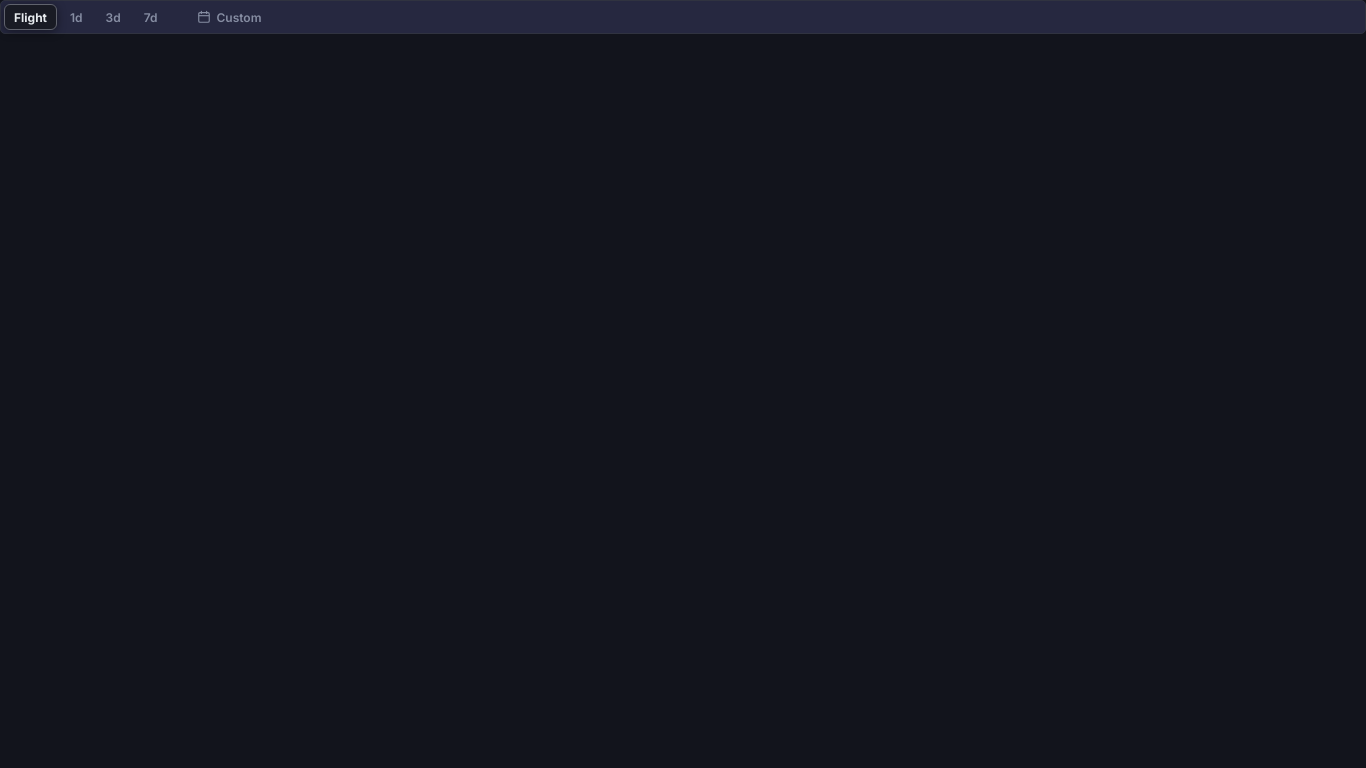
DateRangeControl - the Custom segment IS the calendar trigger › clicking the active Custom segment reopens the calendar
The width and height of the screenshot is (1366, 768).
Step 1. Click the tab with aria-label "Custom date range" → click(230, 17), box [170,4,288,30]
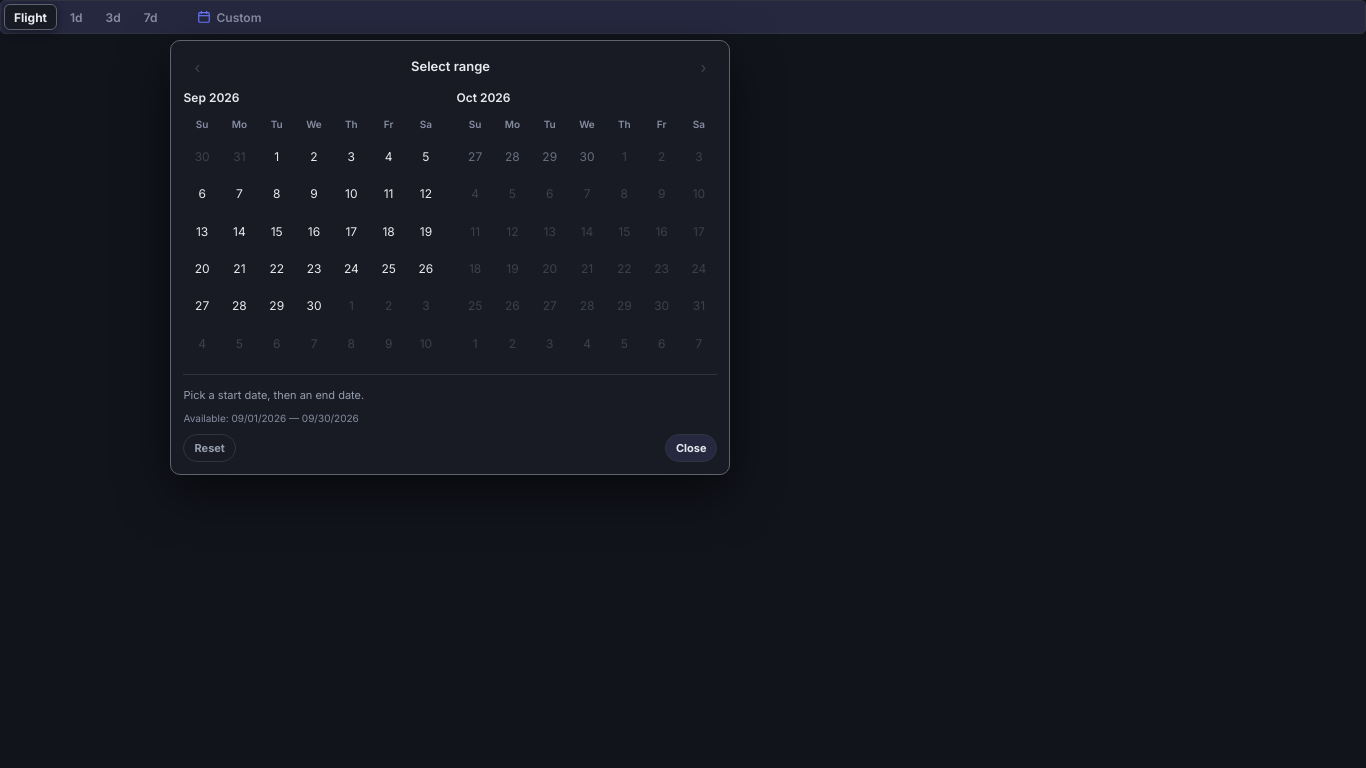
Step 2. Click the 1st button "1" → click(277, 157), box [258,138,295,175]
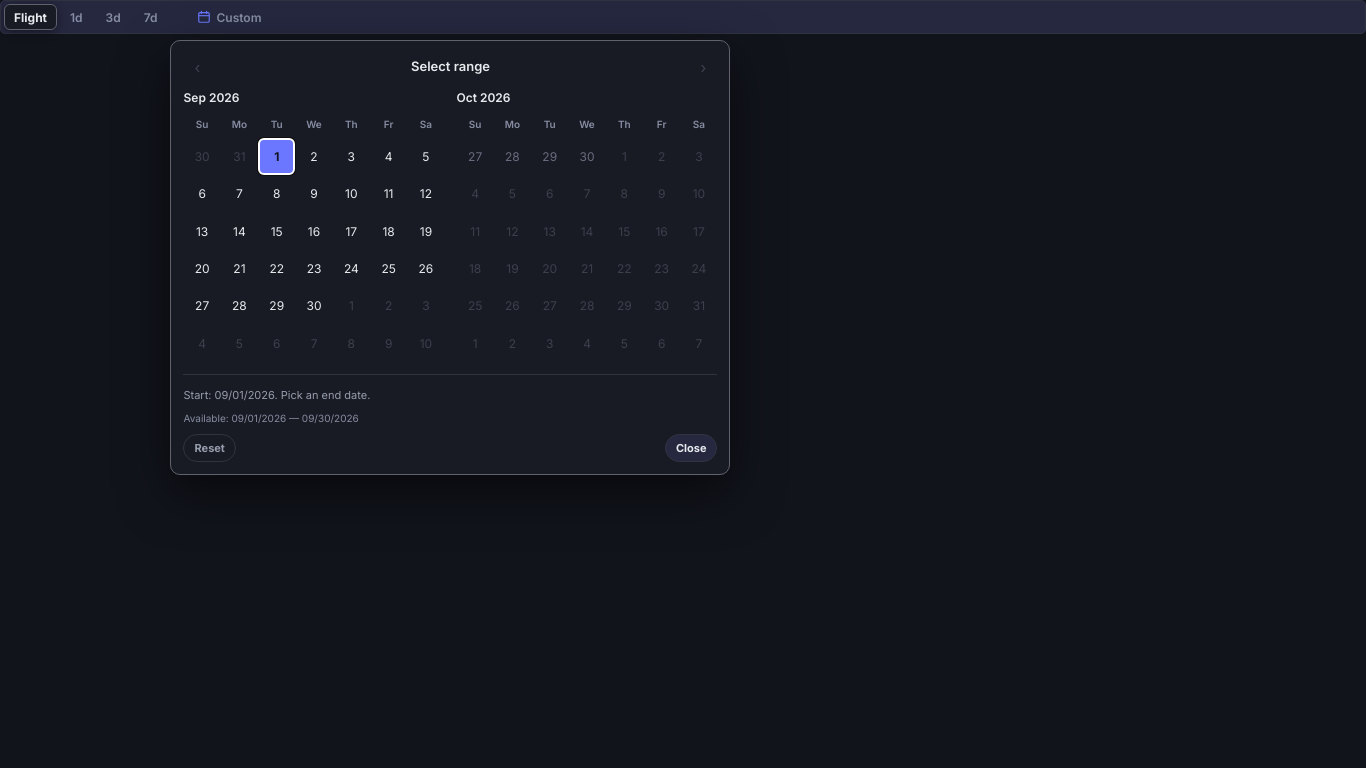
Step 3. Click the 1st button "10" → click(351, 194), box [333,175,370,213]
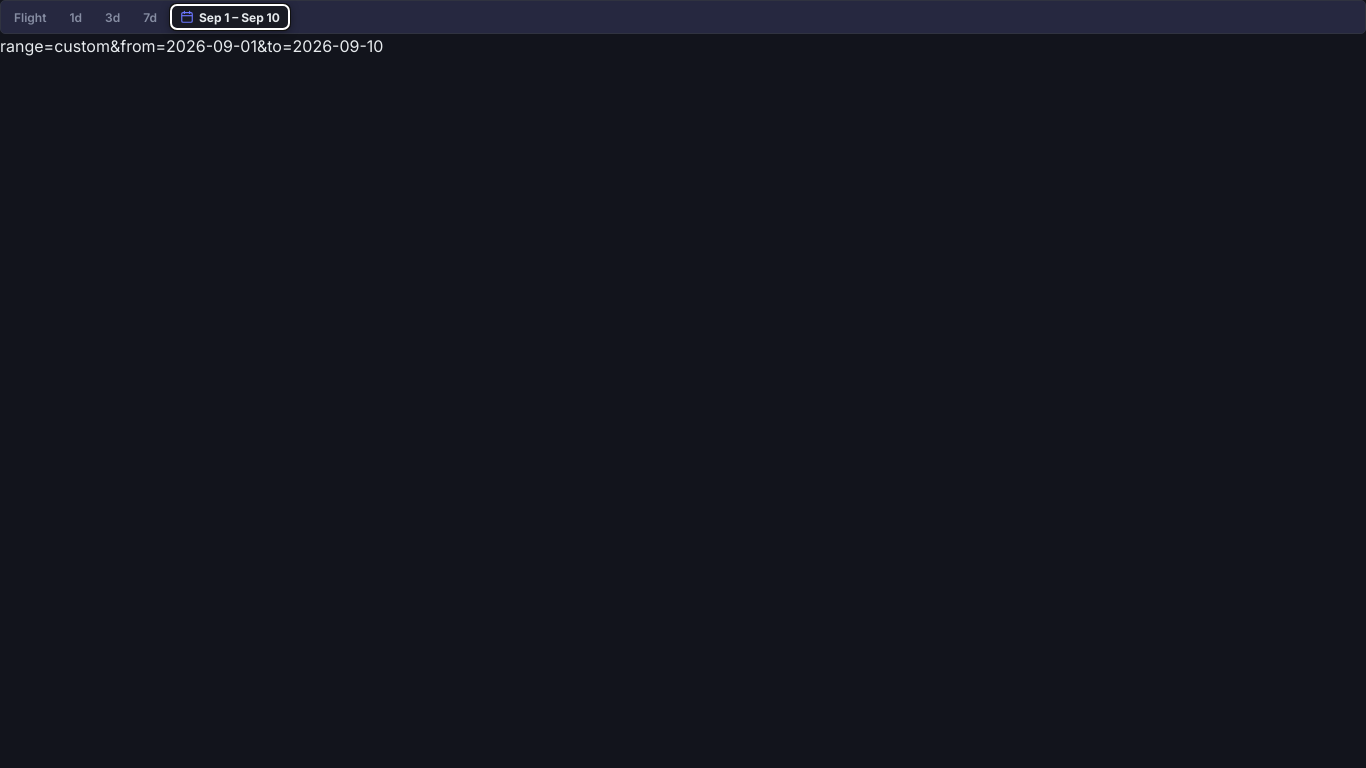
Now the dialog is gone
Step 4. Click the tab with aria-label "Custom date range: " → click(230, 17), box [170,4,290,30]
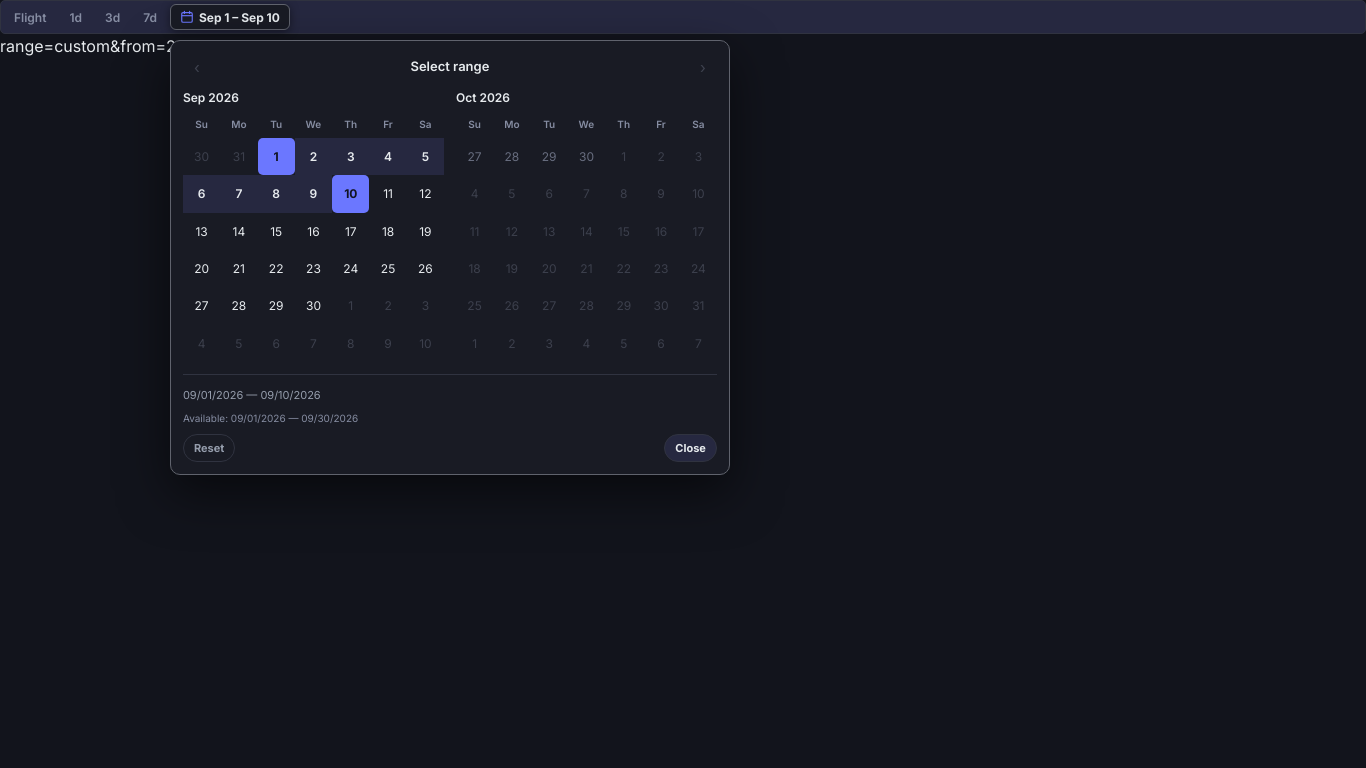
Now the dialog is shown, box [170,40,730,475]
